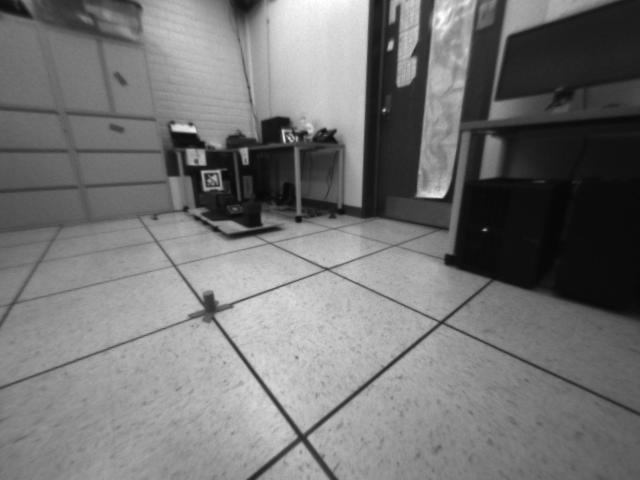X: (186, 289, 235, 323)
